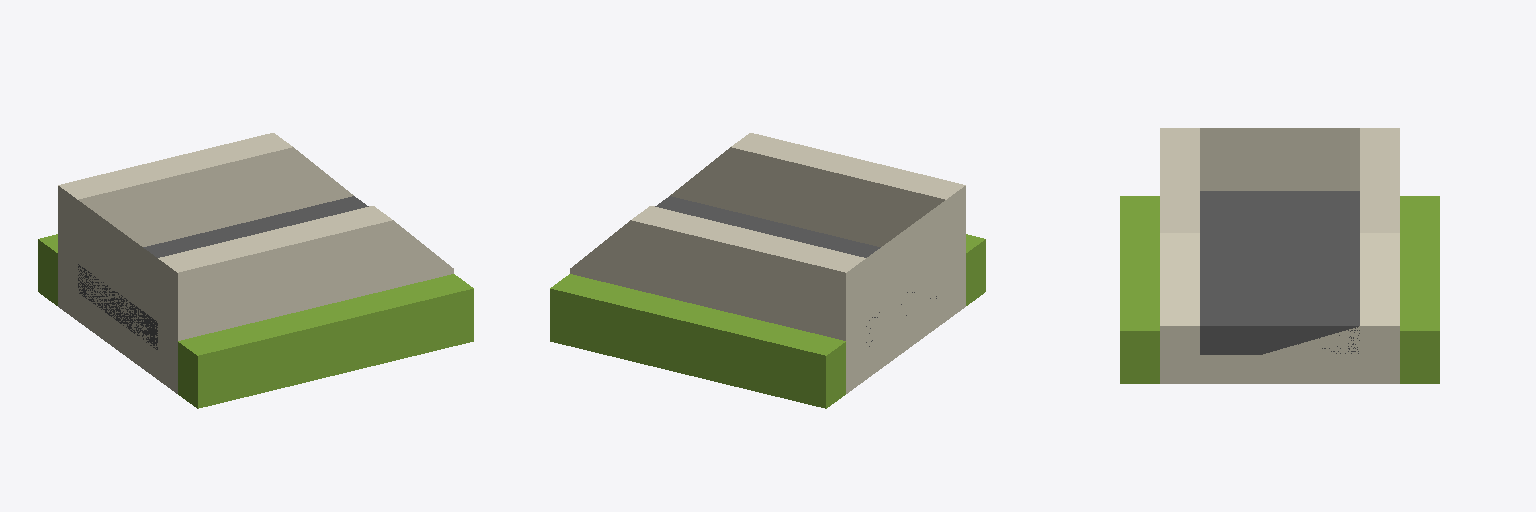
File: roadTile_193.obj
3 views of the same model, side by side, from view 1: azimuth 30°, elevation 25°; view 2: azimuth 150°, elevation 25°; view 3: azimuth 270°, elevation 25° (orthographic).
Parts seen in each view (by area): view 1: Mesh1 Group1 Model; view 2: Mesh1 Group1 Model; view 3: Mesh1 Group1 Model.
Part boxes in pixels (x1,y1,x2,y2): Mesh1 Group1 Model: (38, 133, 473, 408); Mesh1 Group1 Model: (550, 133, 985, 408); Mesh1 Group1 Model: (1120, 128, 1439, 383).
Bounding box in the file's own units: 3 × 1.26 × 3.